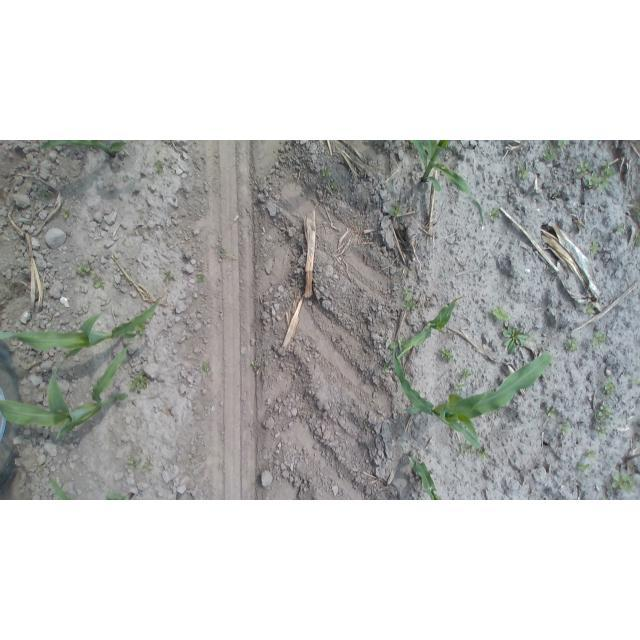Maize: (383, 343, 559, 451), (1, 347, 136, 441), (0, 292, 168, 362), (405, 140, 484, 226), (391, 292, 466, 363), (46, 476, 141, 500), (404, 454, 449, 500), (35, 140, 129, 162)
Weeds: (502, 325, 534, 358), (595, 402, 615, 441), (609, 470, 637, 494), (596, 161, 614, 191), (129, 371, 151, 393), (399, 287, 418, 312), (491, 306, 513, 323), (558, 417, 575, 439), (575, 458, 592, 478), (459, 440, 476, 460), (591, 329, 607, 349), (581, 300, 599, 317), (588, 239, 602, 260), (75, 263, 94, 278), (543, 143, 557, 162), (441, 348, 456, 365), (91, 272, 105, 290), (585, 171, 598, 190), (564, 337, 580, 352), (216, 243, 229, 261), (160, 269, 176, 283), (476, 446, 490, 462), (391, 203, 405, 218), (389, 338, 405, 351), (632, 201, 640, 226), (460, 367, 474, 381), (604, 380, 616, 396), (248, 358, 261, 372), (488, 208, 501, 222), (517, 165, 529, 180), (577, 160, 589, 175), (134, 321, 146, 335), (583, 449, 598, 460), (39, 187, 53, 198), (320, 166, 332, 178), (154, 162, 165, 175), (126, 459, 139, 470), (556, 141, 571, 150), (195, 272, 206, 284), (546, 406, 557, 418), (142, 462, 153, 474), (633, 230, 640, 248), (615, 225, 626, 236), (455, 383, 466, 394), (201, 363, 214, 372), (62, 207, 72, 218), (611, 140, 622, 150), (435, 324, 446, 334), (380, 362, 389, 371), (632, 377, 640, 387), (330, 180, 338, 189), (600, 494, 612, 500), (552, 192, 559, 201), (120, 175, 128, 182), (128, 188, 136, 192)
